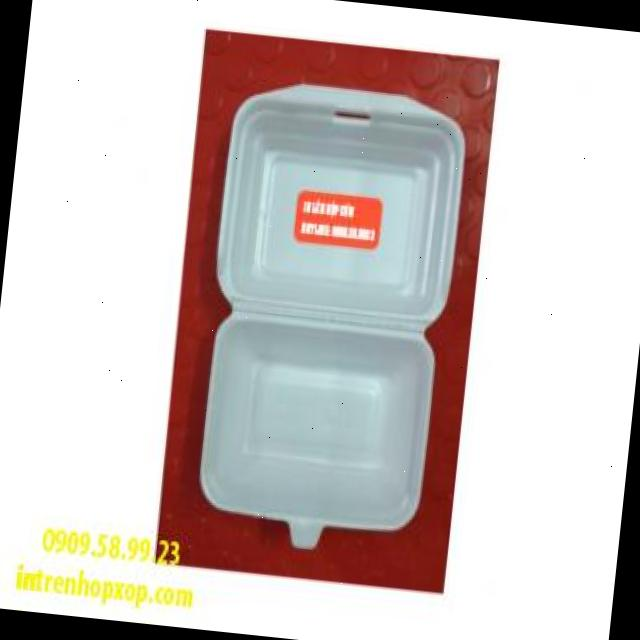styrofoam: (182, 70, 473, 561)
